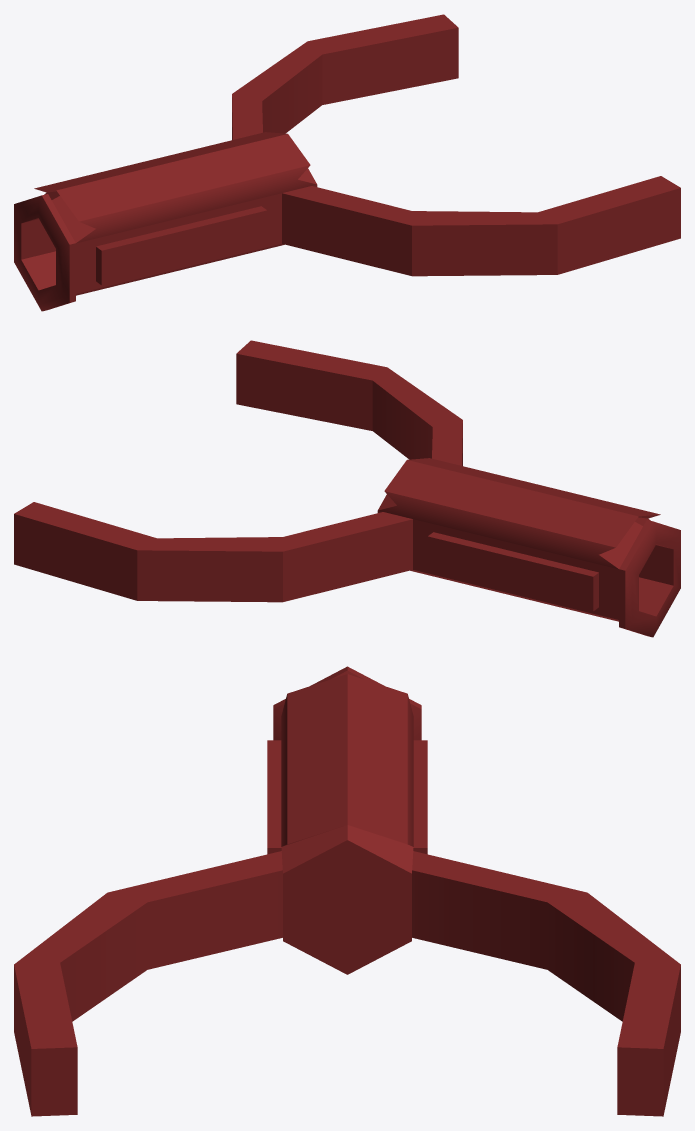
Rendered from TurretGun.fbx.
3 renders of one model, top to bottom at view 1: azimuth 30°, elevation 25°; view 2: azimuth 150°, elevation 25°; view 3: azimuth 270°, elevation 25°, orthographic. The views are drawn at different scales.
Parts seen in each view (by area): view 1: pCylinder1; view 2: pCylinder1; view 3: pCylinder1.
Part boxes in pixels (<box>): pCylinder1: <box>14,14,680,311</box>; pCylinder1: <box>14,340,680,637</box>; pCylinder1: <box>14,666,680,1116</box>.
Bounding box in the file's own units: 10.83 × 2.32 × 8.96.
